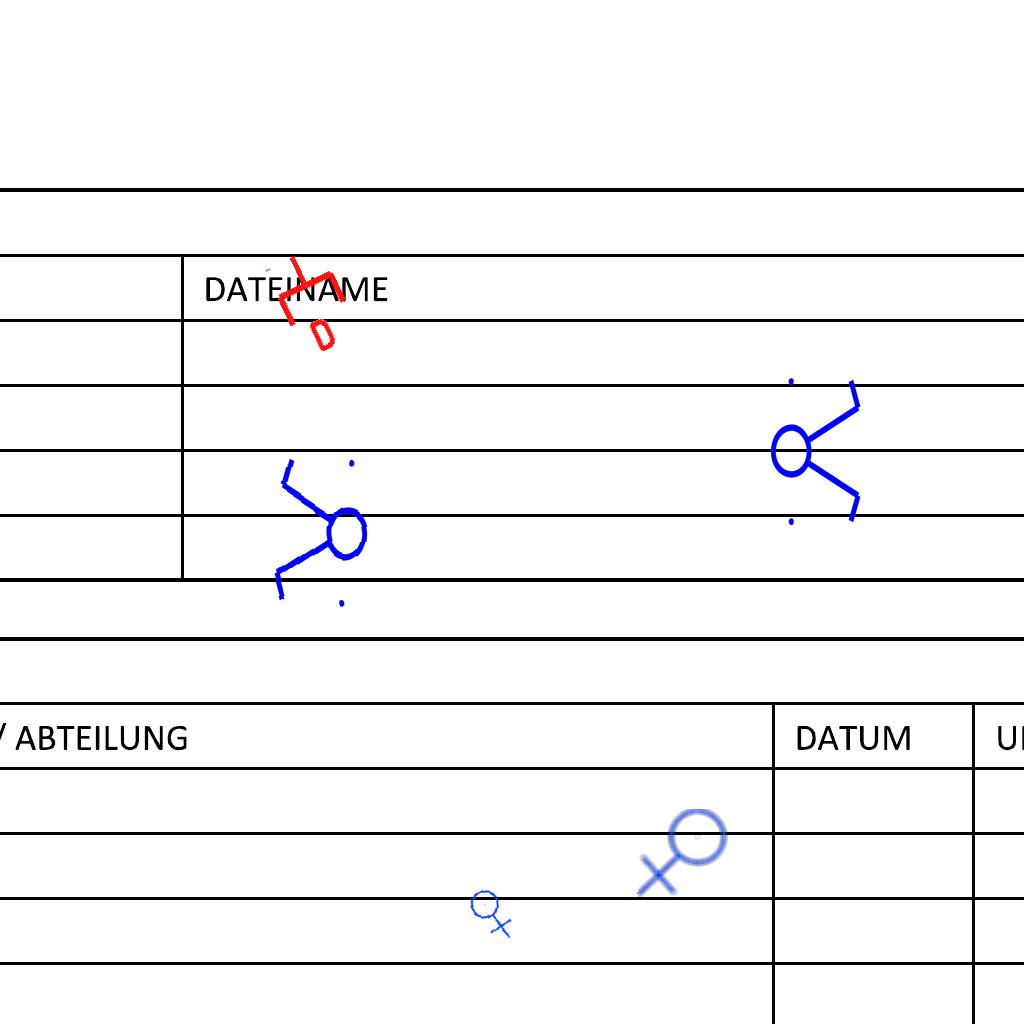Datenanschluss_einfach: (260, 241, 365, 361)
Elektroanschluss_allgemein_230V_Geraeteanschlussdose_230V: (636, 807, 735, 901), (465, 883, 520, 940)
Serienschalter: (267, 445, 375, 621), (769, 366, 865, 534)
